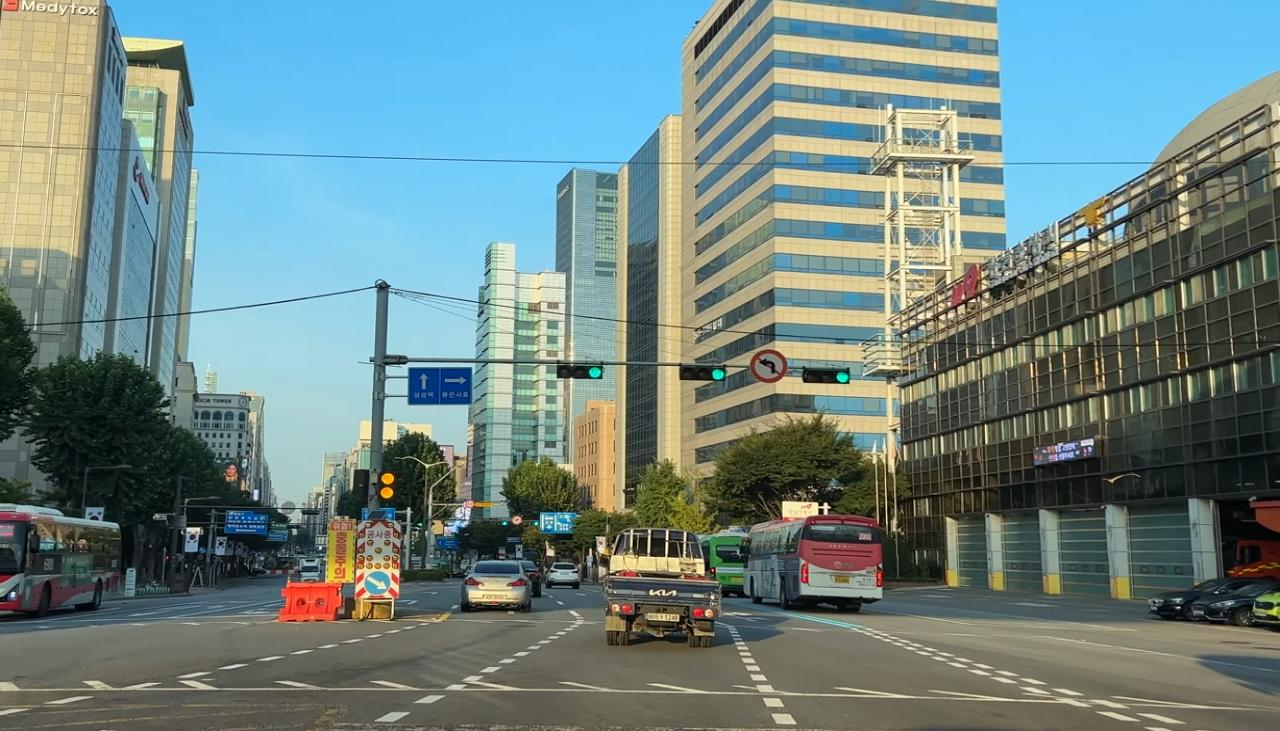Green Light: (709, 366, 726, 380), (835, 368, 850, 383), (586, 366, 602, 379)
